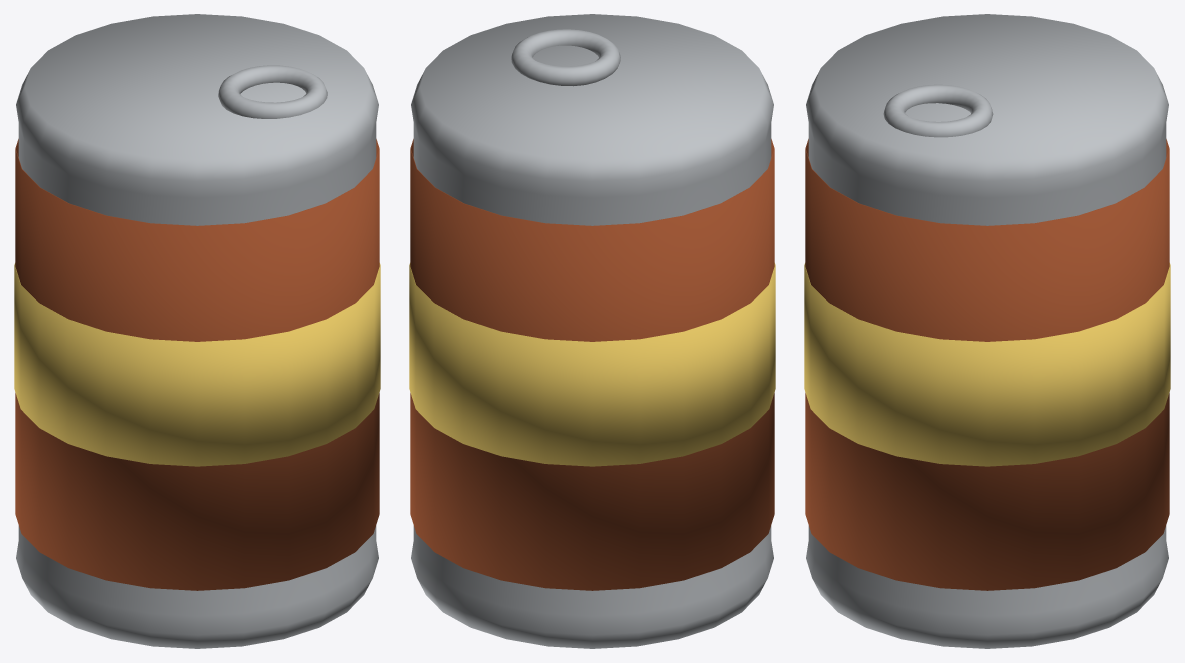
Rendered from food_can.glb.
3 views of the same model, side by side, from view 1: azimuth 30°, elevation 25°; view 2: azimuth 150°, elevation 25°; view 3: azimuth 270°, elevation 25° (orthographic).
Visible parts, largest first — view 1: label, can, band, pull; view 2: label, can, band, pull; view 3: label, can, band, pull.
Part boxes in pixels (x1,y1,x2,y2): label: (15,139,379,590); can: (16,14,378,648); band: (14,263,380,466); pull: (218,65,327,118); label: (410,139,774,590); can: (411,14,773,648); band: (409,263,775,466); pull: (511,29,620,86); label: (805,139,1169,590); can: (806,14,1168,648); band: (804,263,1170,466); pull: (883,84,993,137).
Size of the model in its own units: 0.0746 by 0.1116 by 0.0746.
